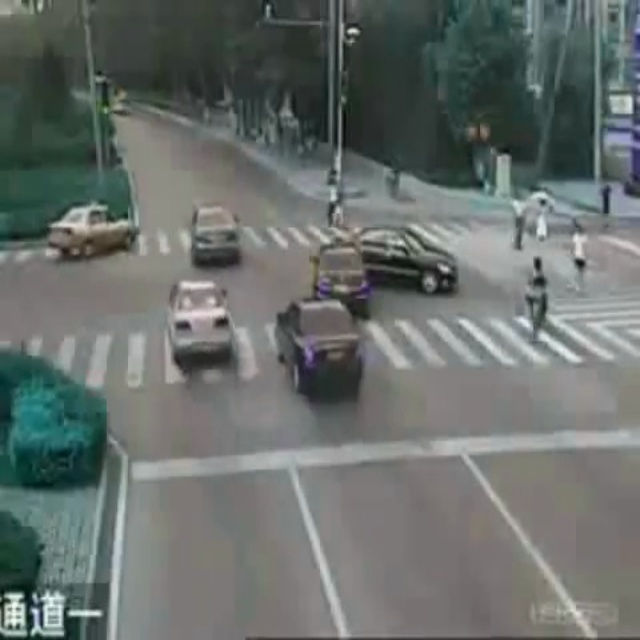acc: (315, 226, 457, 311)
